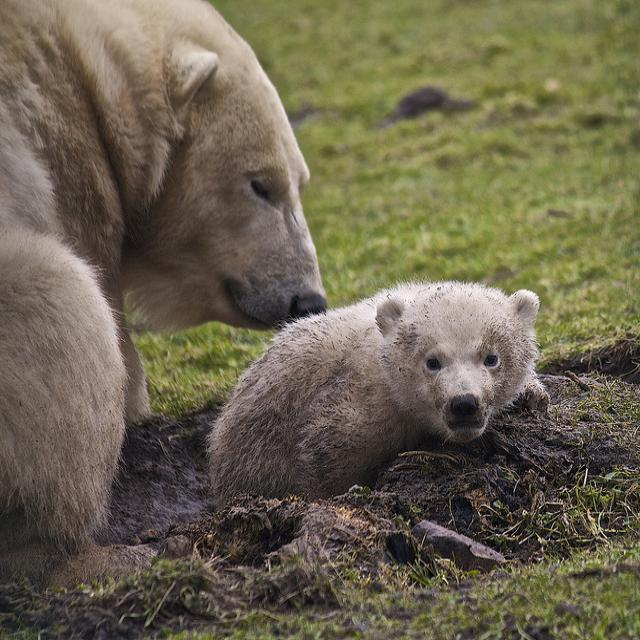Bear: (0, 0, 339, 592), (211, 270, 565, 516)
